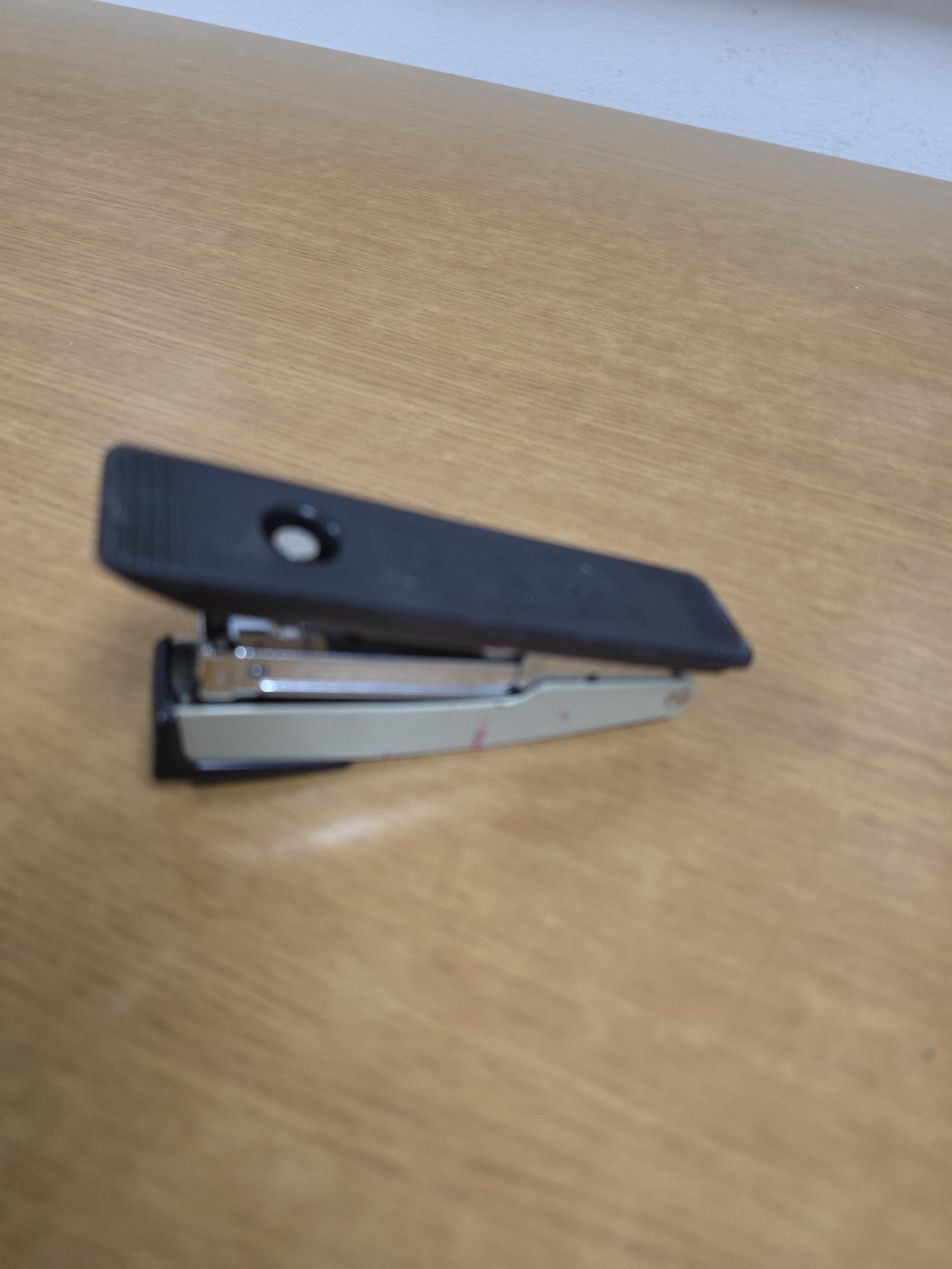stapler: (97, 444, 756, 781)
